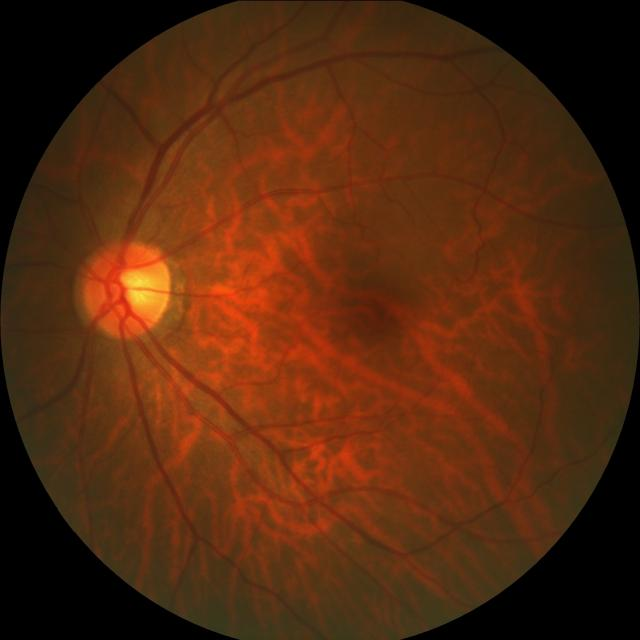OC: (114, 266, 153, 308)
OD: (83, 238, 174, 338)
